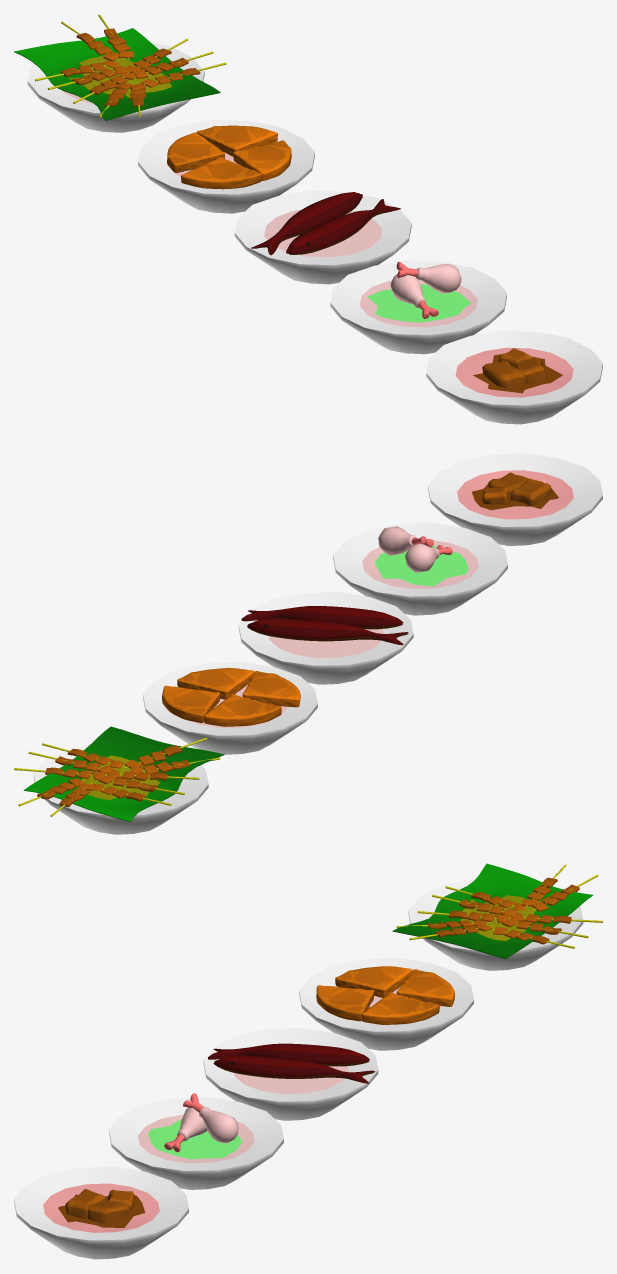
Rendered from PrefabMakanan.fbx.
The picture shows the model from 3 angles, top to bottom: view 1: azimuth 30°, elevation 25°; view 2: azimuth 150°, elevation 25°; view 3: azimuth 330°, elevation 25°; orthographic projection.
Parts seen in each view (by area): view 1: Sate Padang, Rendang, Telur, Ikan Bakar, Ayam Pop; view 2: Sate Padang, Telur, Ikan Bakar, Rendang, Ayam Pop; view 3: Sate Padang, Rendang, Telur, Ayam Pop, Ikan Bakar.
Part boxes in pixels (x1=…): Sate Padang: x1=14, y1=14, x2=226, y2=132; Rendang: x1=426, y1=330, x2=602, y2=424; Telur: x1=138, y1=119, x2=314, y2=213; Ikan Bakar: x1=234, y1=190, x2=411, y2=284; Ayam Pop: x1=330, y1=260, x2=506, y2=354; Sate Padang: x1=14, y1=726, x2=224, y2=834; Telur: x1=143, y1=662, x2=317, y2=754; Ikan Bakar: x1=238, y1=592, x2=413, y2=684; Rendang: x1=428, y1=453, x2=602, y2=545; Ayam Pop: x1=333, y1=522, x2=507, y2=615; Sate Padang: x1=392, y1=863, x2=602, y2=970; Rendang: x1=14, y1=1166, x2=188, y2=1259; Telur: x1=299, y1=958, x2=473, y2=1050; Ayam Pop: x1=109, y1=1093, x2=283, y2=1189; Ikan Bakar: x1=203, y1=1028, x2=378, y2=1120.
Bounding box in the file's own units: 224 × 86.4 × 1140.
